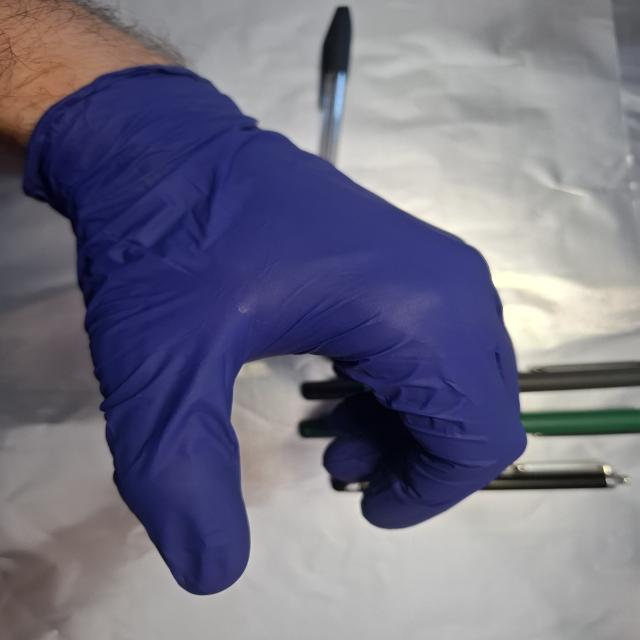glove_on: (22, 64, 534, 598)
